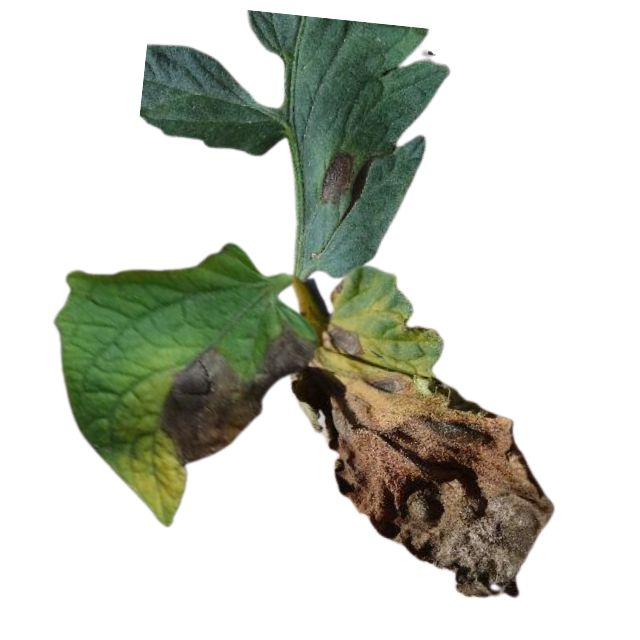Early_blight: (331, 372, 556, 597), (158, 328, 313, 464), (321, 152, 354, 206), (328, 322, 363, 356), (330, 281, 346, 303)
